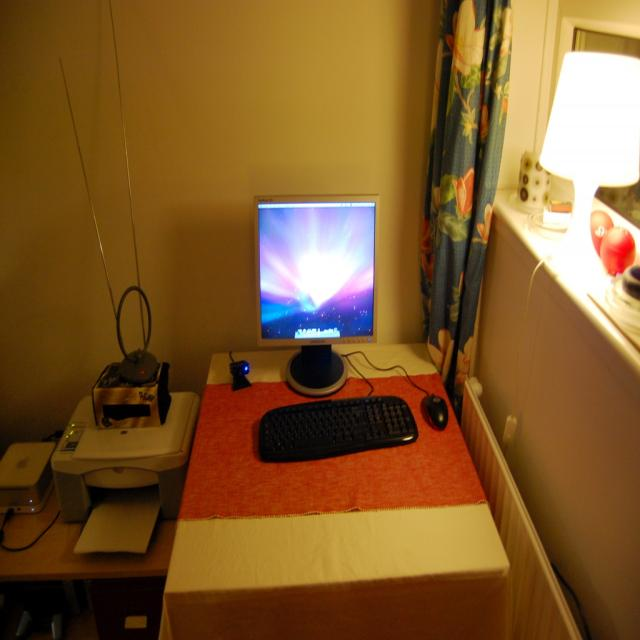desk: (158, 340, 512, 633)
keyboard: (257, 394, 418, 463)
mouse: (421, 393, 448, 430)
tv: (254, 195, 378, 348)
